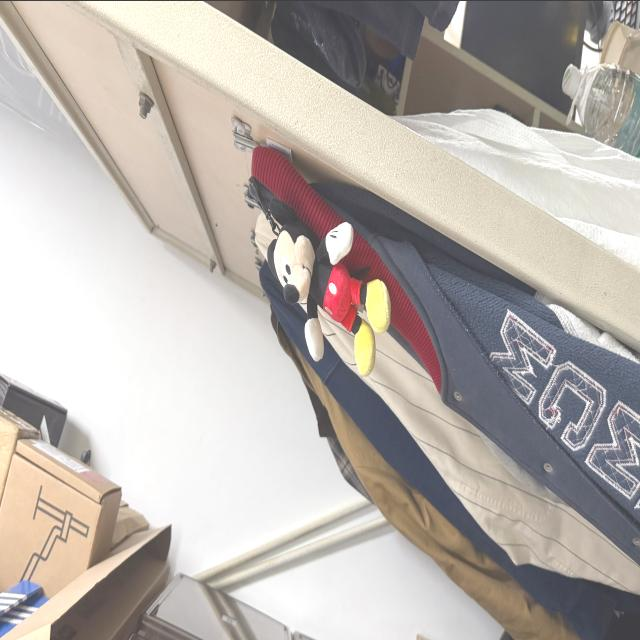mickey: (250, 177, 390, 374)
